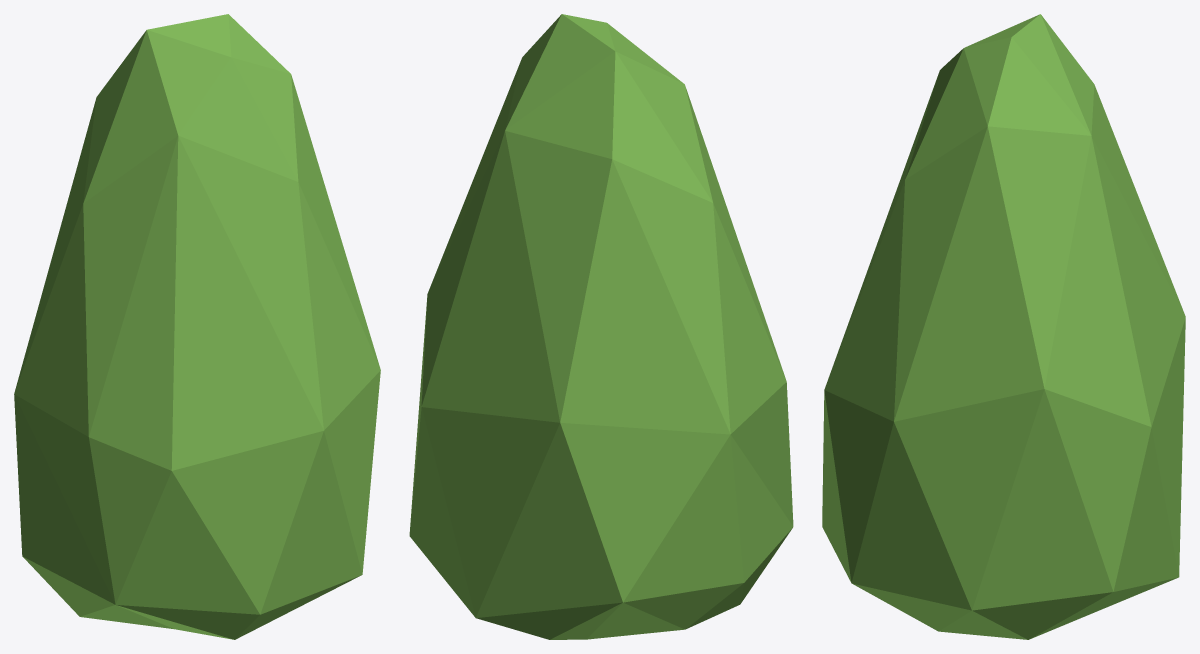
File: Thuja_BushTree_s_01.fbx
3 renders of one model, left to right at view 1: azimuth 30°, elevation 25°; view 2: azimuth 150°, elevation 25°; view 3: azimuth 270°, elevation 25°, orthographic.
Visible parts, largest first — view 1: Thuja_BushTree_s_01; view 2: Thuja_BushTree_s_01; view 3: Thuja_BushTree_s_01.
Part boxes in pixels (x1,y1,x2,y2): Thuja_BushTree_s_01: (14,14,380,639); Thuja_BushTree_s_01: (409,14,793,639); Thuja_BushTree_s_01: (822,14,1185,639).
Bounding box in the file's own units: 96.9 × 171 × 97.04.
